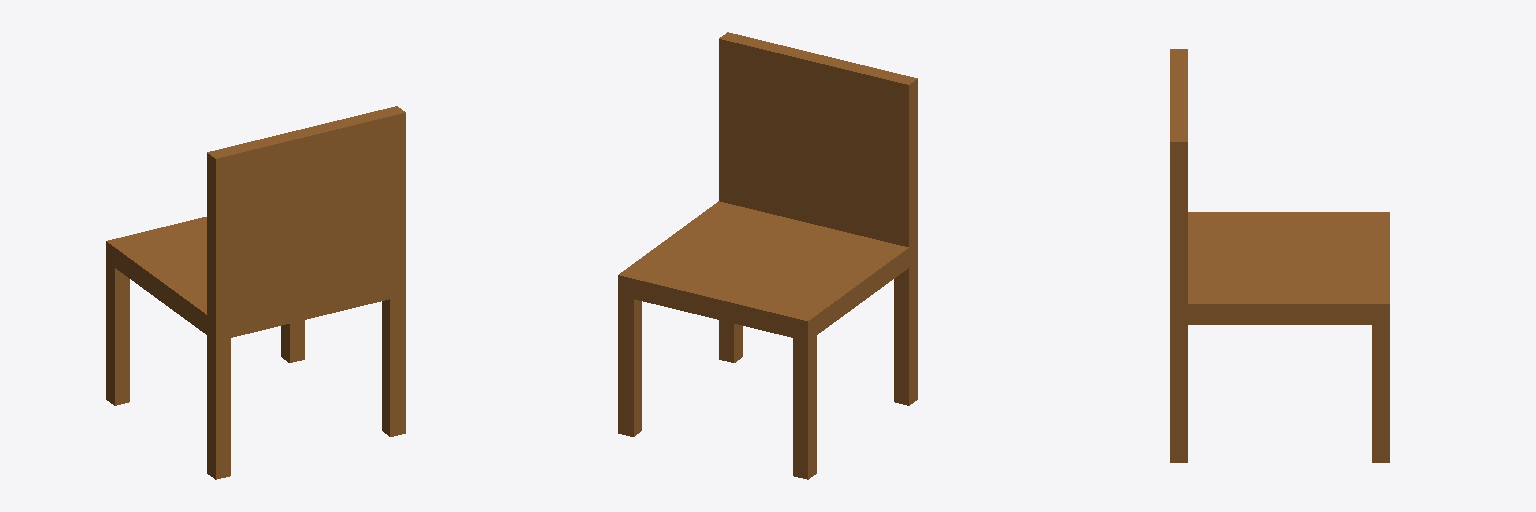
Rendered from chair2.obj.
3 views of the same model, side by side, from view 1: azimuth 30°, elevation 25°; view 2: azimuth 150°, elevation 25°; view 3: azimuth 270°, elevation 25° (orthographic).
Visible parts, largest first — view 1: Chair_立方体.001; view 2: Chair_立方体.001; view 3: Chair_立方体.001.
Boxes of the visible parts, <box> form: Chair_立方体.001: <box>106,106,405,479</box>; Chair_立方体.001: <box>618,32,917,479</box>; Chair_立方体.001: <box>1170,49,1389,462</box>.
Size of the model in its own units: 0.49 by 0.79 by 0.49.